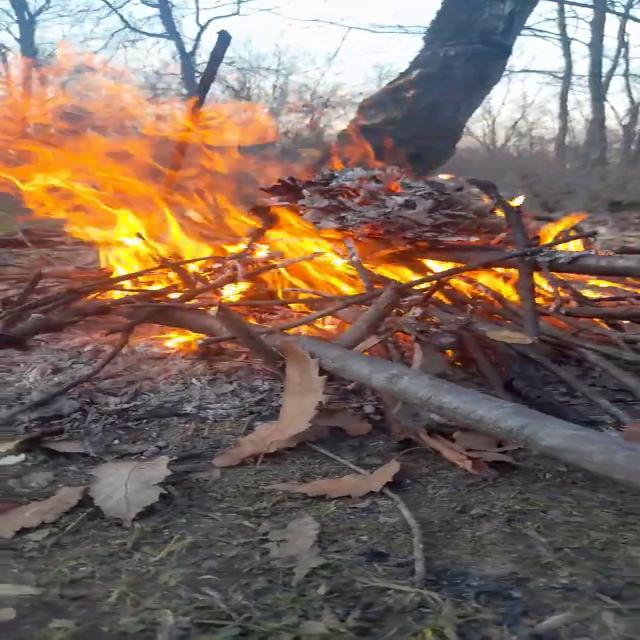Fire: (0, 186, 612, 349), (1, 47, 328, 350)
